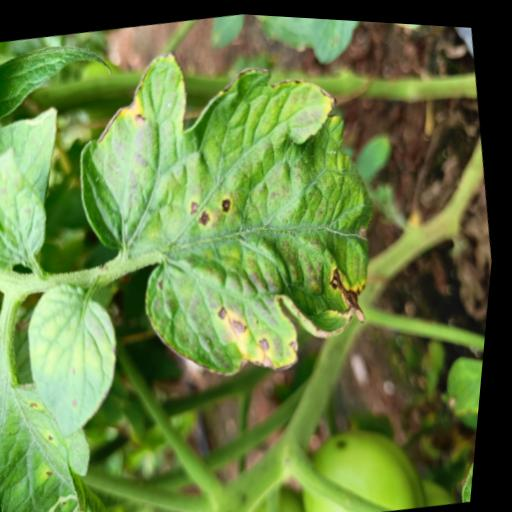Early Blight: (43, 3, 420, 408)
Leaf_Miner: (42, 483, 118, 512)
